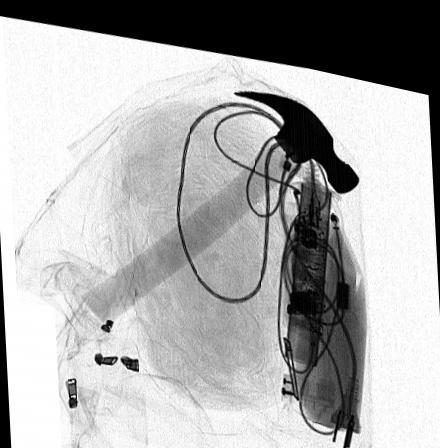Hammer: (79, 78, 361, 320)
